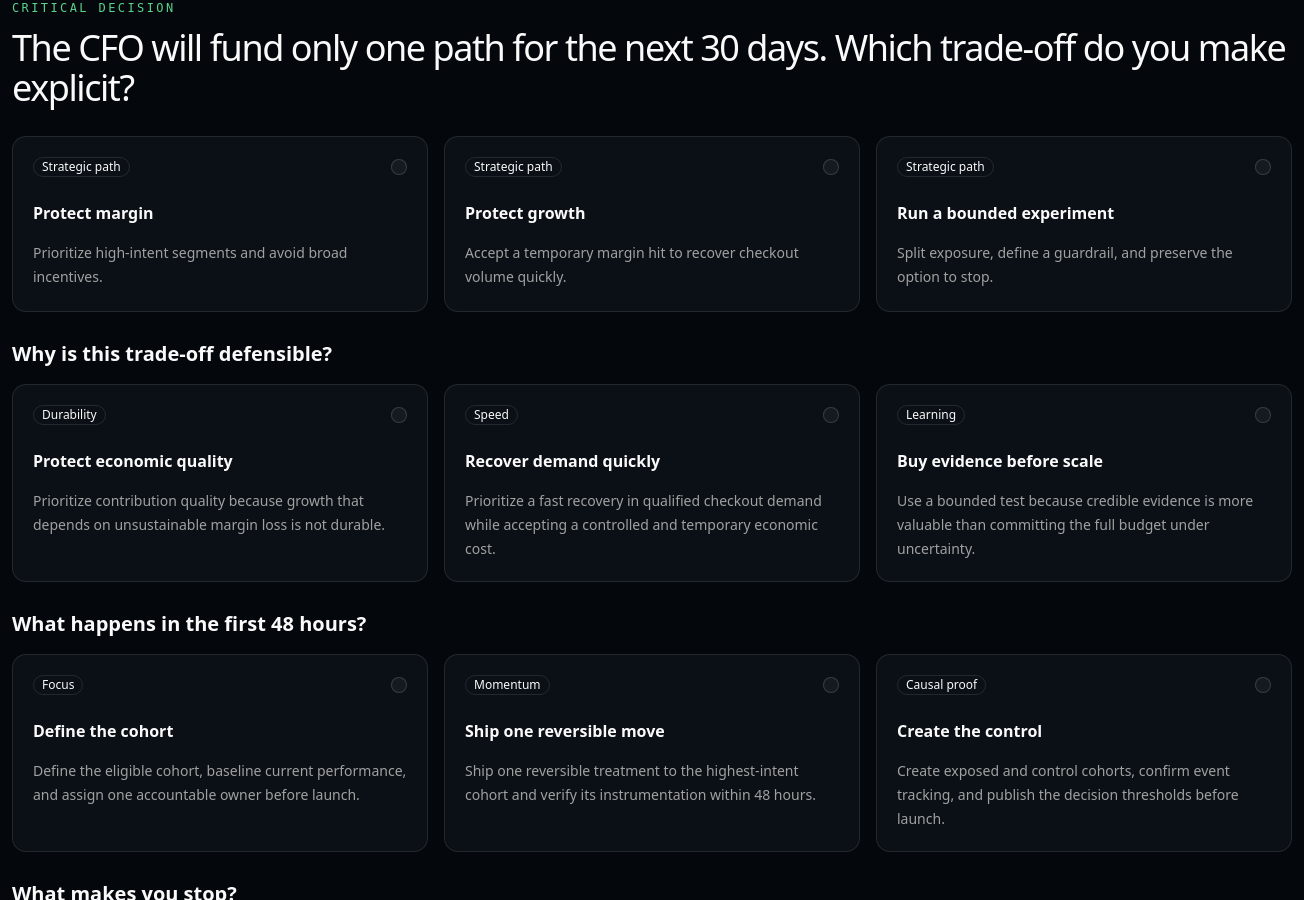
Test case: DecisionForm › reports an interrupted evaluation connection and refreshes saved state
The width and height of the screenshot is (1304, 900).
Click the 1st radio button named "Protect margin".
click(399, 167)  # box [391, 159, 407, 175]
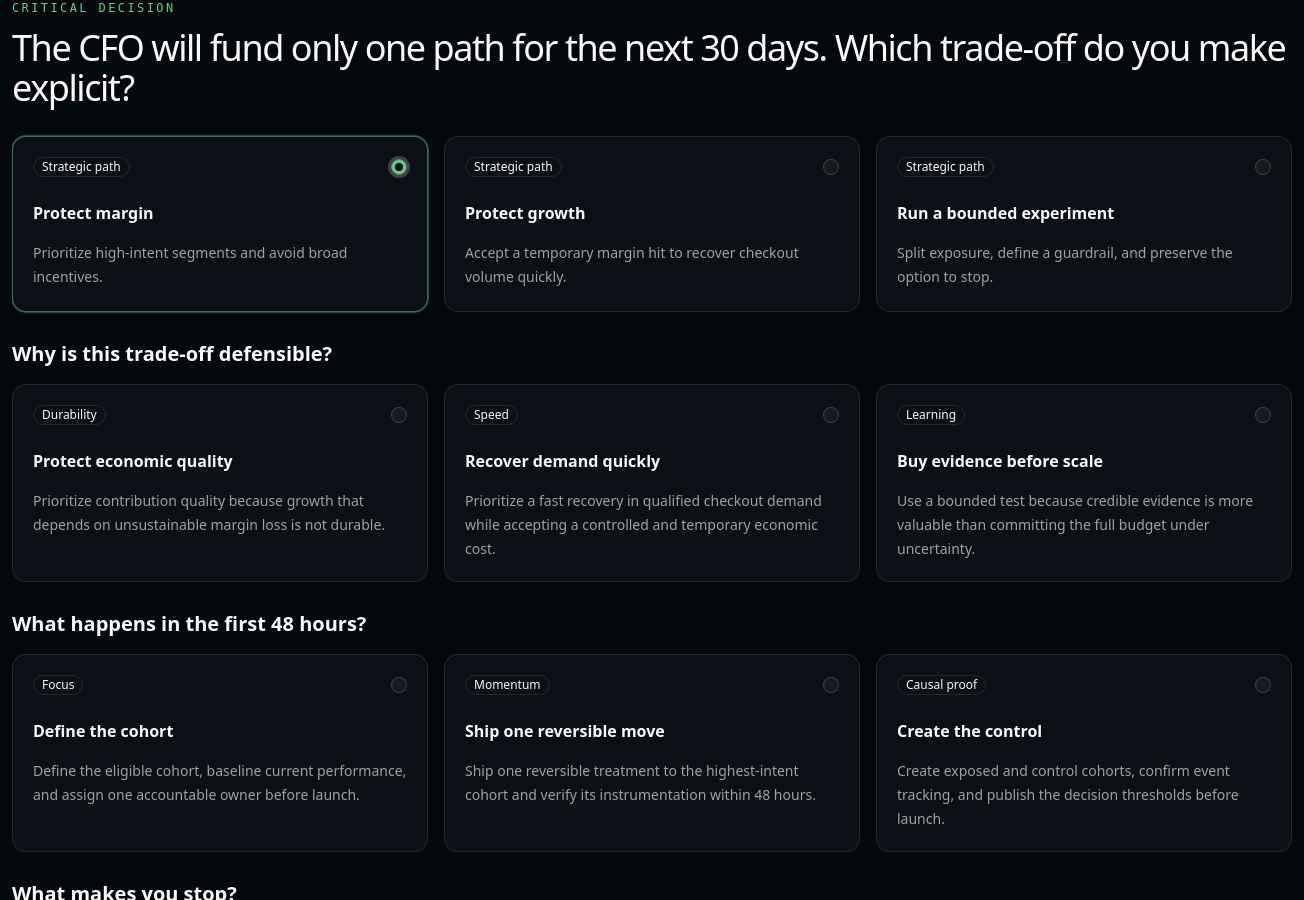
Click the radio button named "Protect economic quality" in the row of "Durability".
click(399, 415)  # box [391, 407, 407, 423]
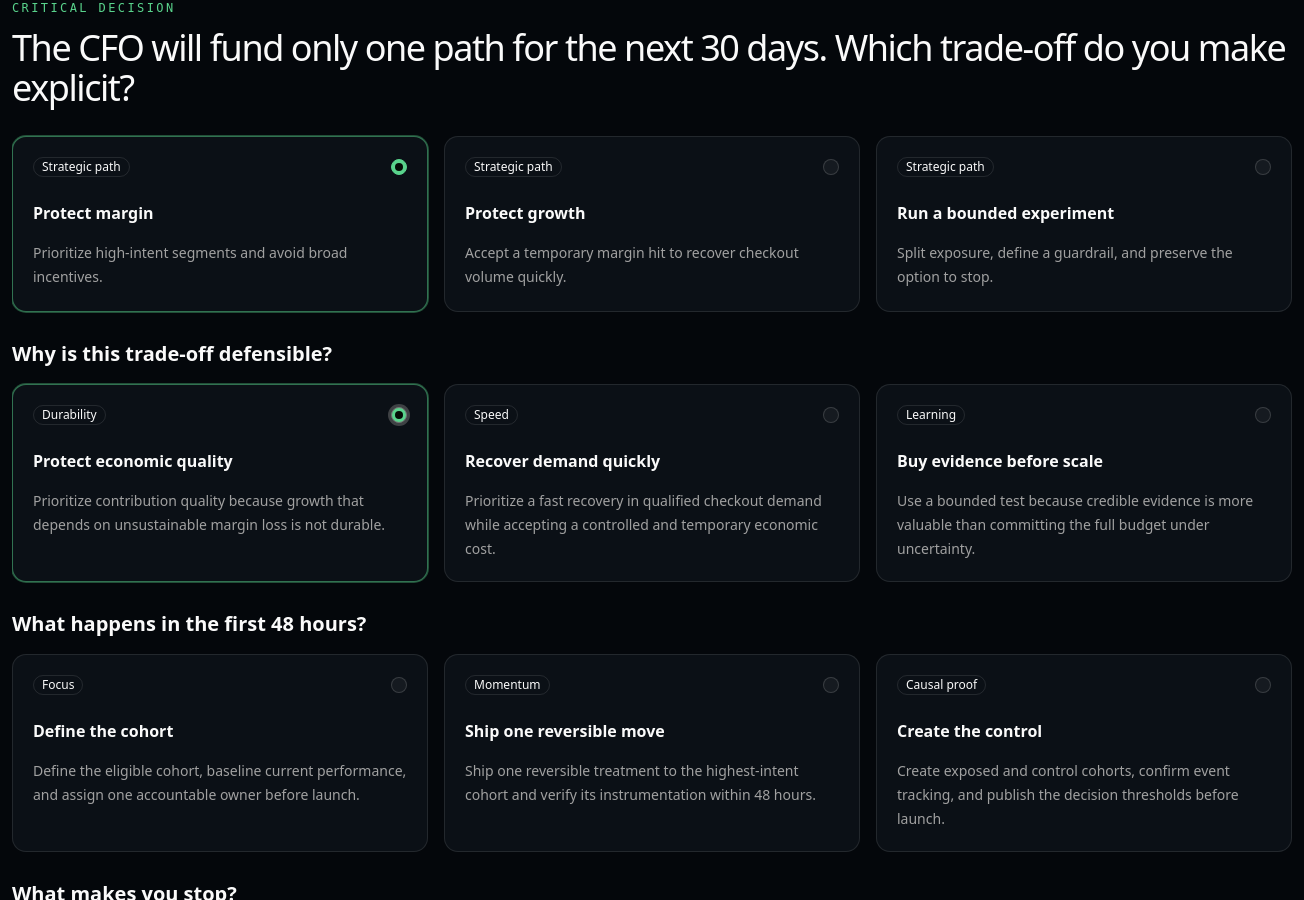
Click the radio button named "Define the cohort" in the row of "Focus".
click(399, 685)  # box [391, 677, 407, 693]
(page scrolled)
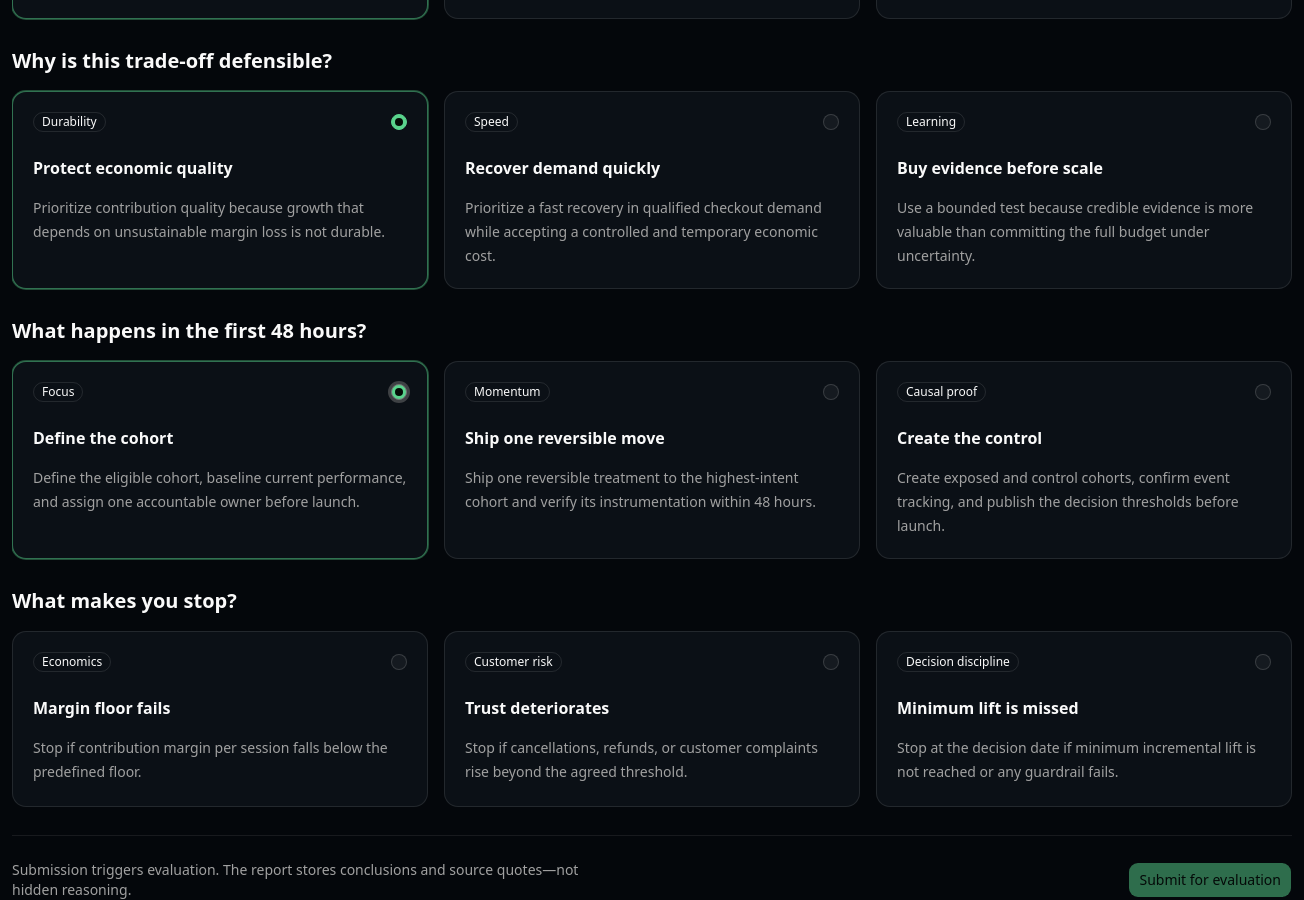
Click the radio button named "Margin floor fails" in the row of "Economics".
click(399, 662)  # box [391, 654, 407, 670]
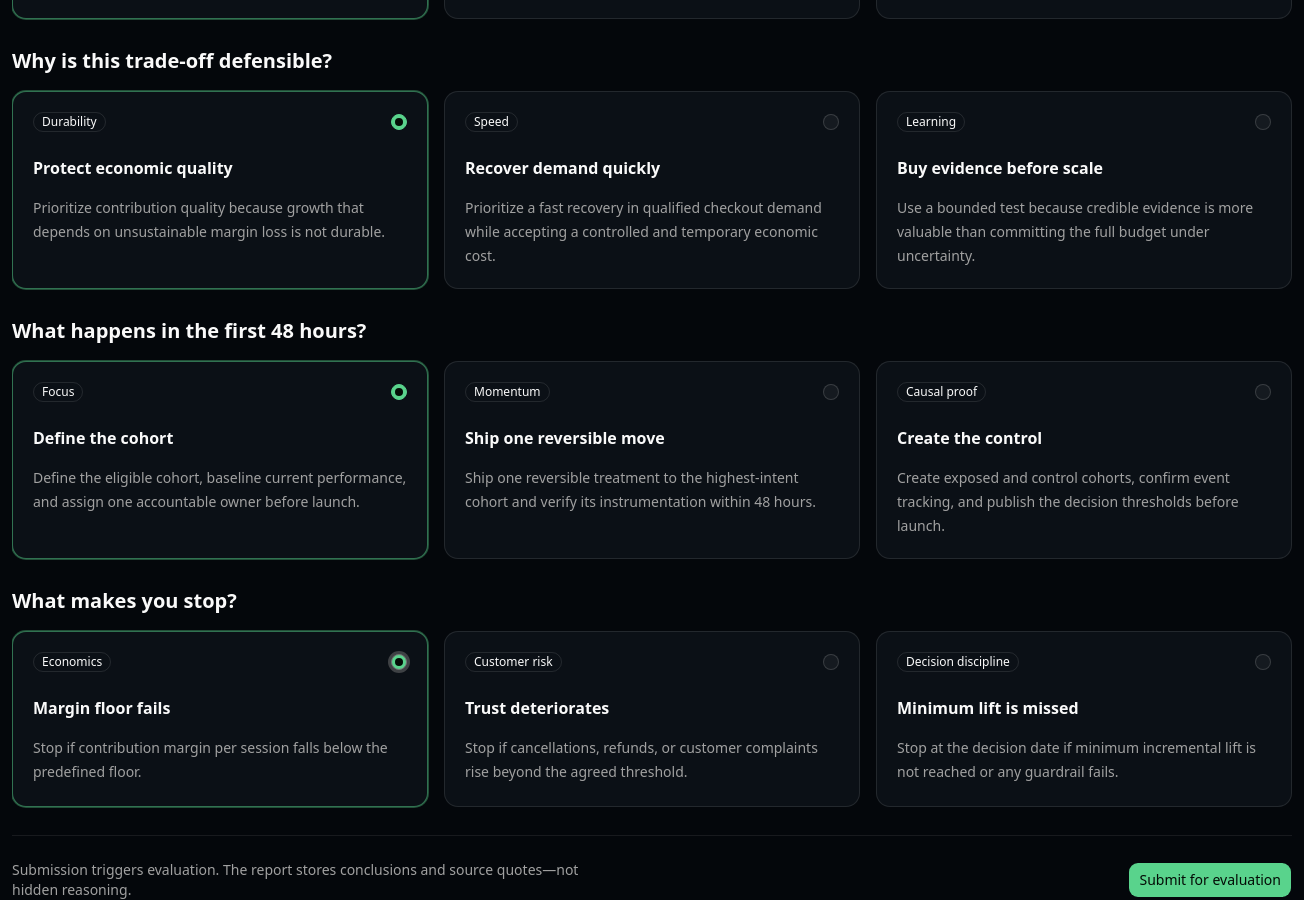
Click the button "Submit for evaluation".
click(1210, 880)  # box [1128, 862, 1292, 898]
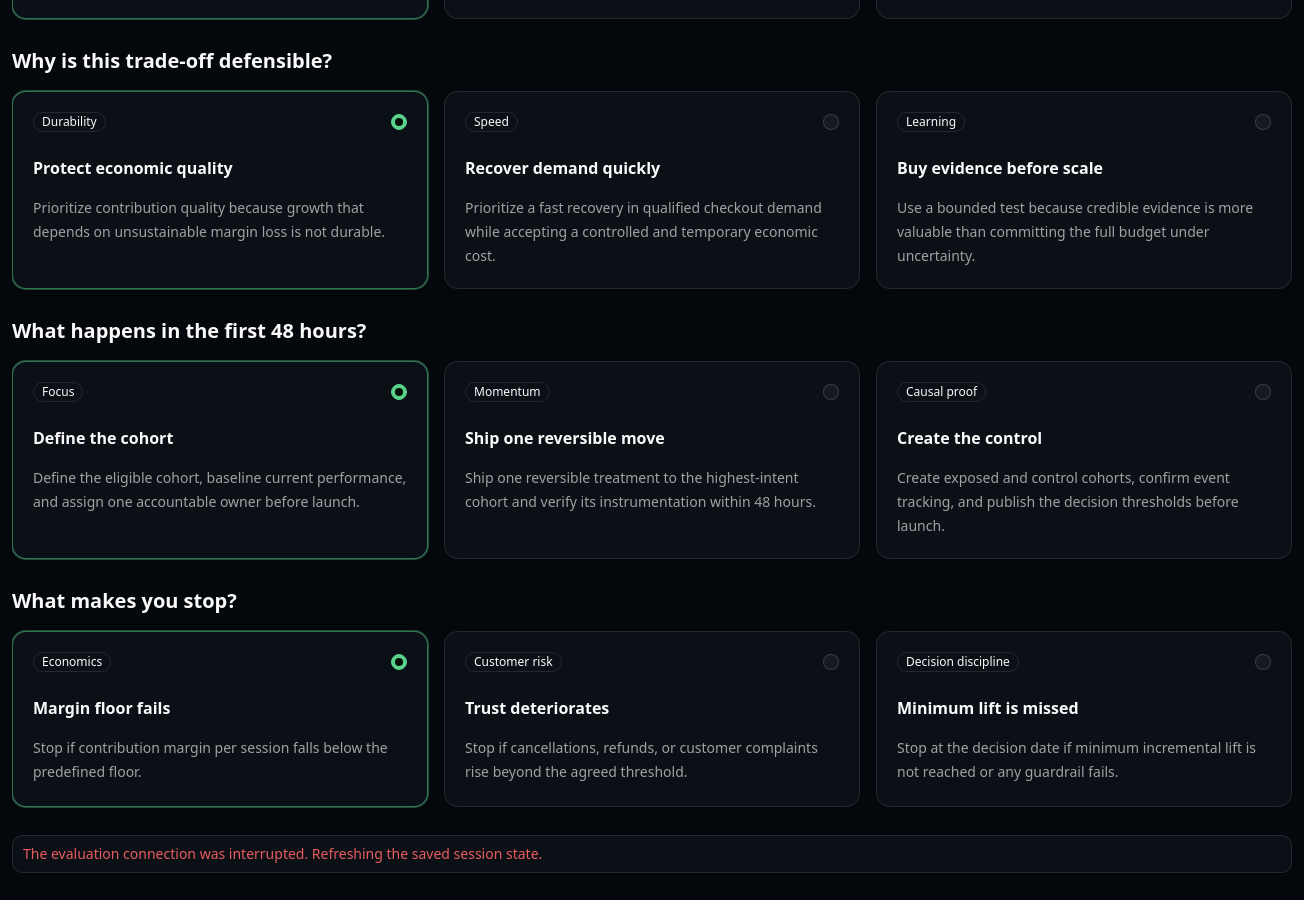
Expected: the message reads "The evaluation connection was interrupted. Refreshing the saved session state.", [23, 844, 542, 863]
